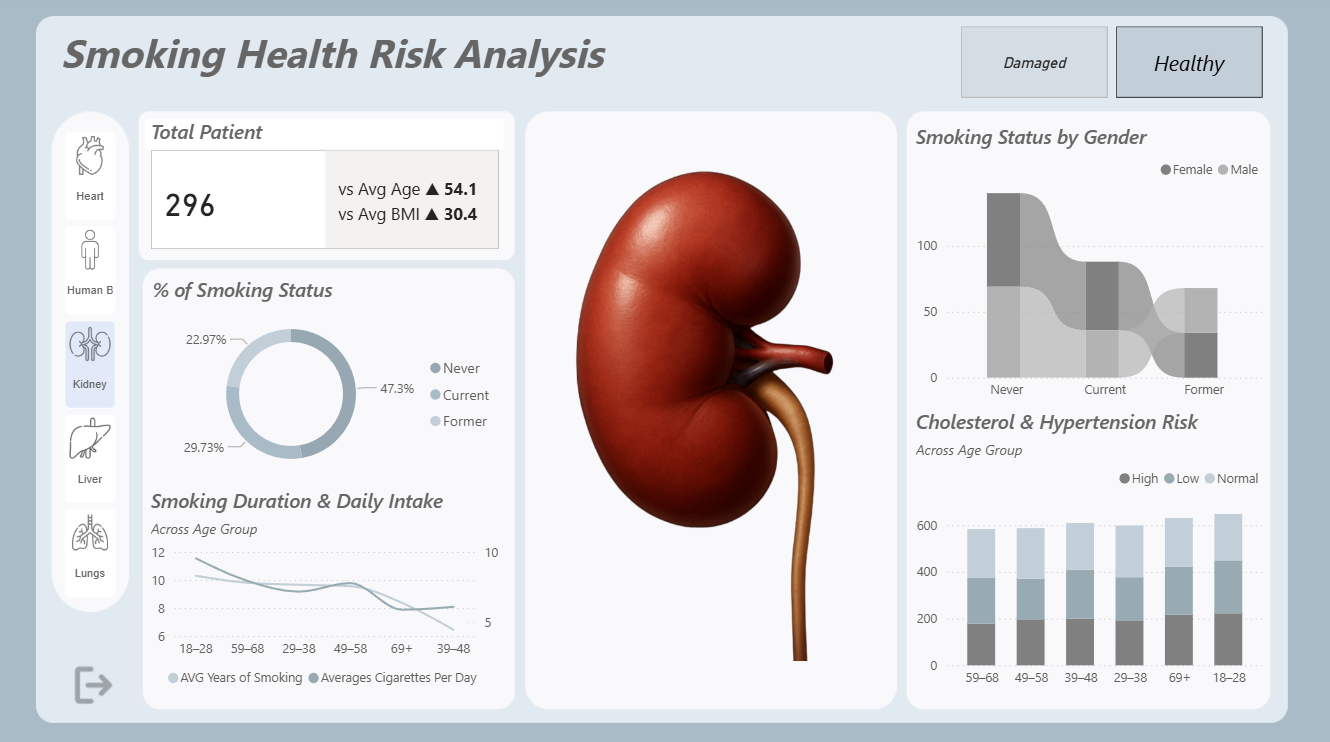

This screenshot's page, from the dashboard's own definition file:
{"tool":"powerbi","page":{"name":"Page 1","canvas":[1280,720],"ordinal":0},"visuals":[{"type":"advancedSlicerVisual","fields":{"Values":["condition.Organ_Condition"]},"box":[918.6,25.7,298.6,78.6],"z":0},{"type":"cardVisual","title":"Total Patient","fields":{"Data":["CountNonNull(health_dataset.Patient_ID)"]},"box":[145,118.8,342,130],"z":1000},{"type":"ChicletSlicer1448559807354","fields":{"Category":["Organs.Organ"],"Image":["Organs.Icon_URL"]},"box":[58.9,123.2,86.8,465.3],"z":2000},{"type":"image","box":[515,118.3,342,553.3],"z":3000},{"type":"donutChart","title":"% of Smoking Status","fields":{"Category":["health_dataset.Smoking_Status"],"Y":["CountNonNull(health_dataset.Smoking_Status)"]},"box":[145.7,270,341.4,200],"z":4000},{"type":"lineChart","title":"Smoking Duration & Daily Intake","fields":{"Category":["health_dataset.Age Group"],"Y":["Avg(health_dataset.Years_of_Smoking)"],"Y2":["Avg(health_dataset.Cigarettes_Per_Day)"]},"box":[144.3,471.4,341.4,200],"z":5000},{"type":"ribbonChart","title":"Smoking Status by Gender","fields":{"Category":["health_dataset.Smoking_Status"],"Y":["CountNonNull(health_dataset.Patient_ID)"],"Series":["health_dataset.Gender"]},"box":[875.7,122.9,341.4,272.9],"z":6000},{"type":"columnChart","title":"Cholesterol & Hypertension Risk","fields":{"Category":["health_dataset.Age Group"],"Y":["Avg(health_dataset.Cholesterol_Level)"],"Series":["health_dataset.BP_Risk"]},"box":[875.7,395.7,342,275.7],"z":7000},{"type":"textbox","box":[58.6,25.7,547.1,64.3],"z":7001}]}

Visuals, with their boxes in screenshot pixels (x1, y1, x2, y2), scaled from the page's 1280x720 canvas onto the 1330x742 screenshot:
advancedSlicerVisual - condition.Organ_Condition: 954/26/1265/107
"Total Patient" cardVisual: 151/122/506/256
ChicletSlicer1448559807354 - Organs.Organ x Organs.Icon_URL: 61/127/151/606
image: 535/122/890/692
"% of Smoking Status" donutChart: 151/278/506/484
"Smoking Duration & Daily Intake" lineChart: 150/486/505/692
"Smoking Status by Gender" ribbonChart: 910/127/1265/408
"Cholesterol & Hypertension Risk" columnChart: 910/408/1265/692
textbox: 61/26/629/93
